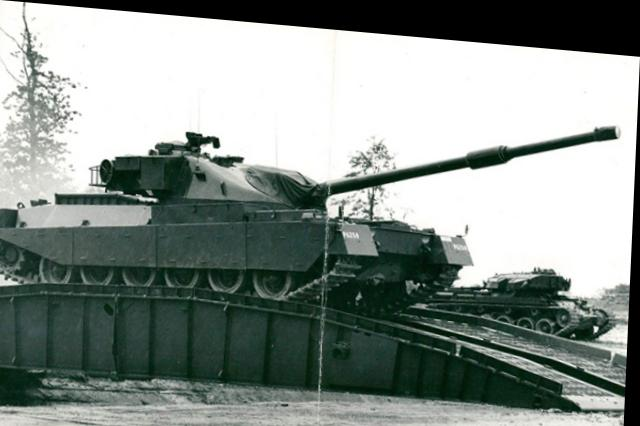tank: (0, 104, 625, 412)
